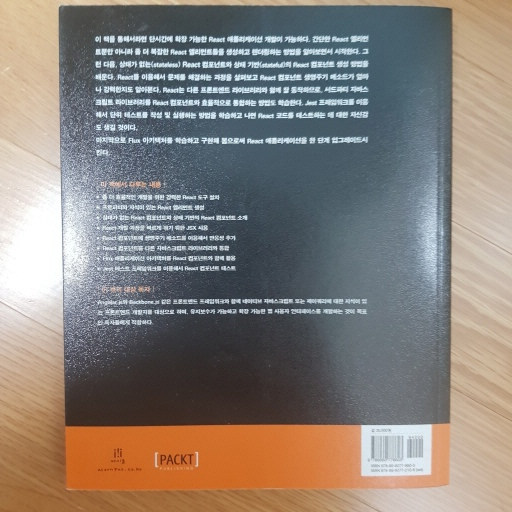Paper_0: (45, 1, 468, 510)
